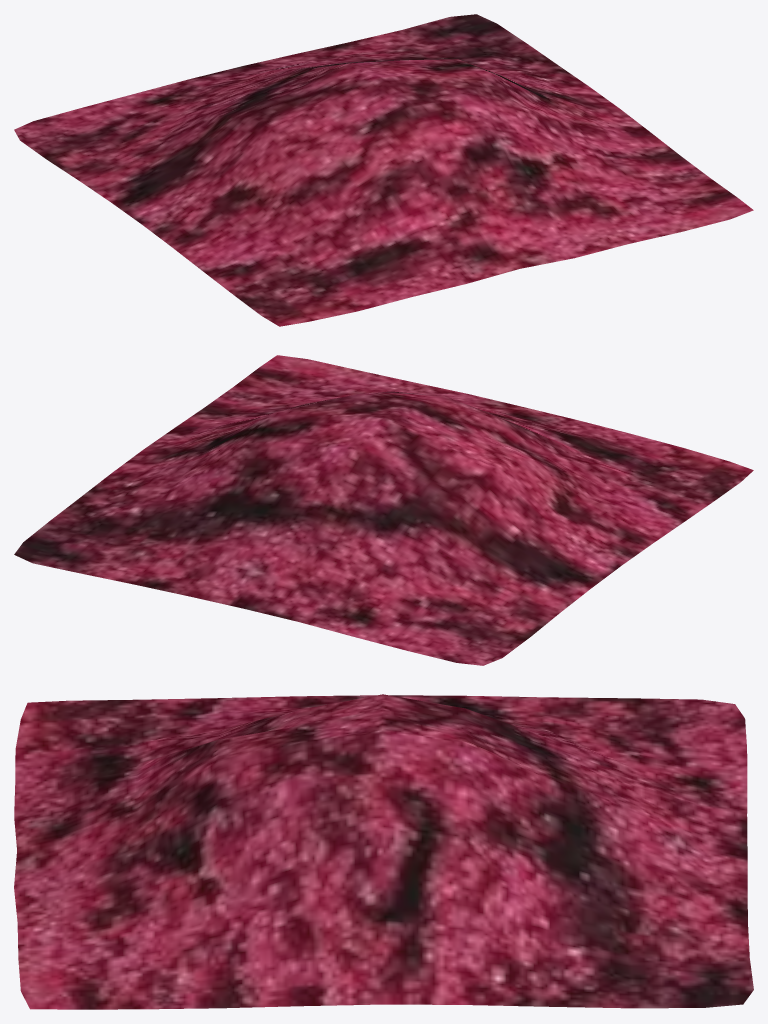
The model's file is cobalt_chloride.fbx.
3 views of the same model, one above another, from view 1: azimuth 30°, elevation 25°; view 2: azimuth 150°, elevation 25°; view 3: azimuth 270°, elevation 25° (orthographic). The views are drawn at different scales.
Visible parts, largest first — view 1: cobalt_chloride; view 2: cobalt_chloride; view 3: cobalt_chloride.
Boxes of the visible parts, left/top/right/bottom form: cobalt_chloride: left=14, top=14, right=753, bottom=326; cobalt_chloride: left=14, top=355, right=753, bottom=665; cobalt_chloride: left=14, top=694, right=753, bottom=1009.
Bounding box in the file's own units: 52.92 × 9.73 × 53.46.
1 material, 1 textured.
